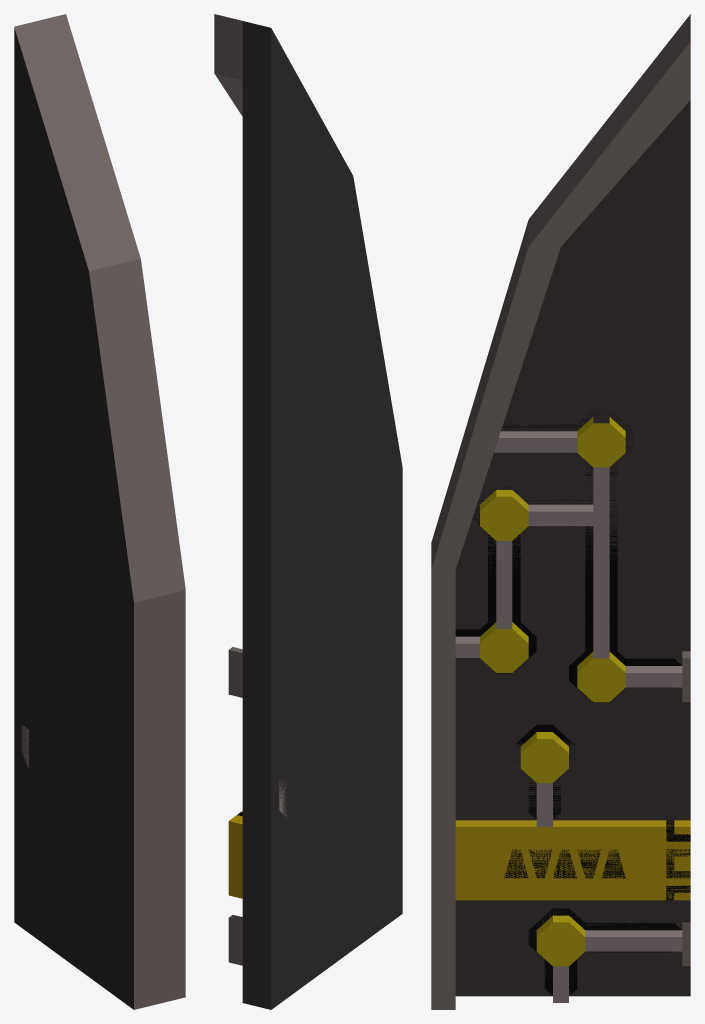
File: obj_ancient_gate_2_0.obj
3 views of the same model, side by side, from view 1: azimuth 30°, elevation 25°; view 2: azimuth 150°, elevation 25°; view 3: azimuth 270°, elevation 25° (orthographic). The views are drawn at different scales.
Size of the model in its own units: 0.25 by 4.12 by 1.
